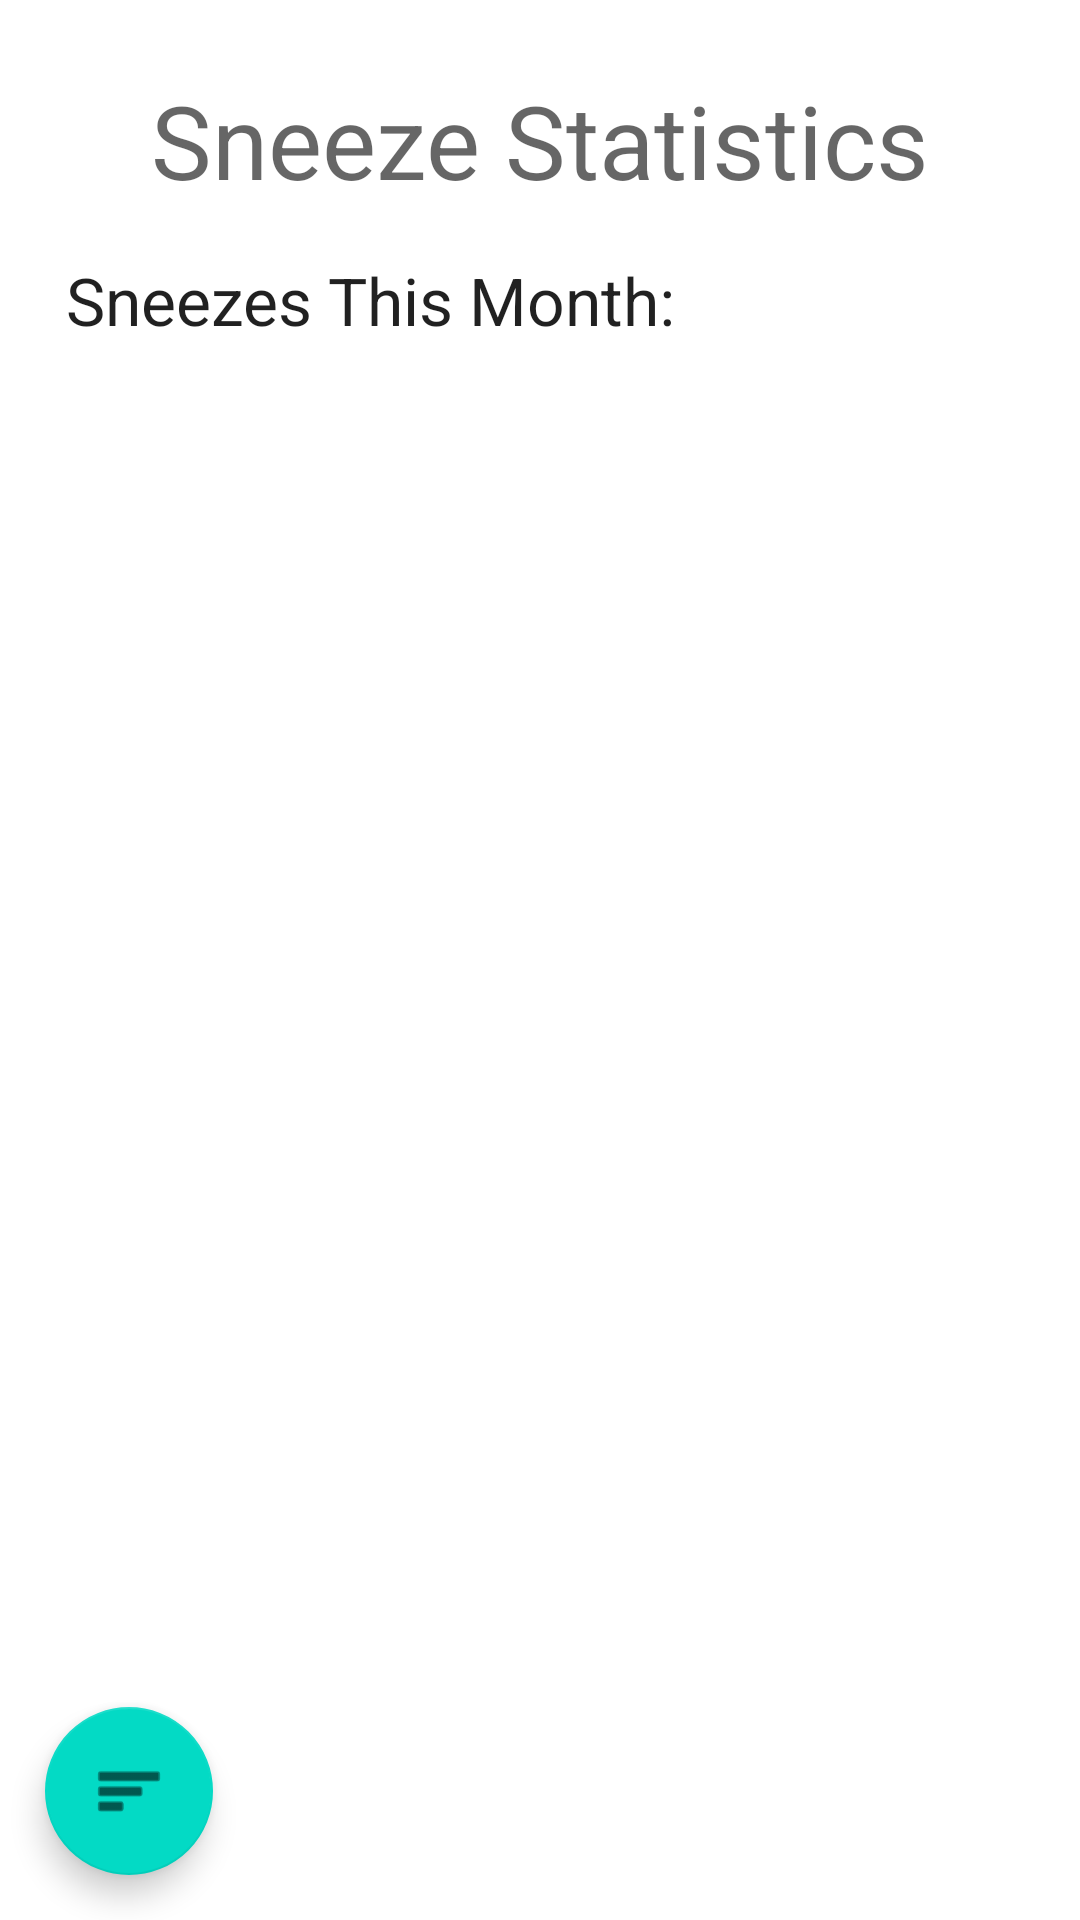

Icon bounding boxes for this 1080*1920 phone screenshot, format {"left": x1, "top": y1, "right": x2, "bottom": y2}:
sort by size: {"left": 45, "top": 1707, "right": 213, "bottom": 1875}
